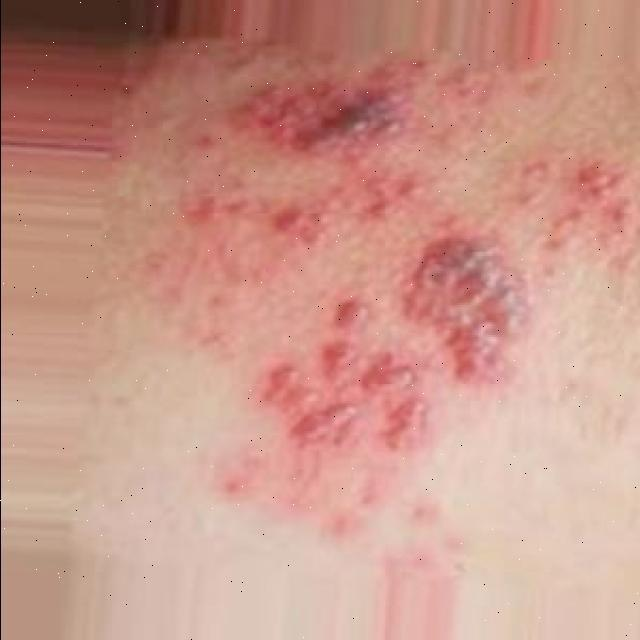Shingles: (184, 52, 426, 251), (238, 295, 412, 469), (401, 222, 528, 386), (513, 144, 639, 271)
